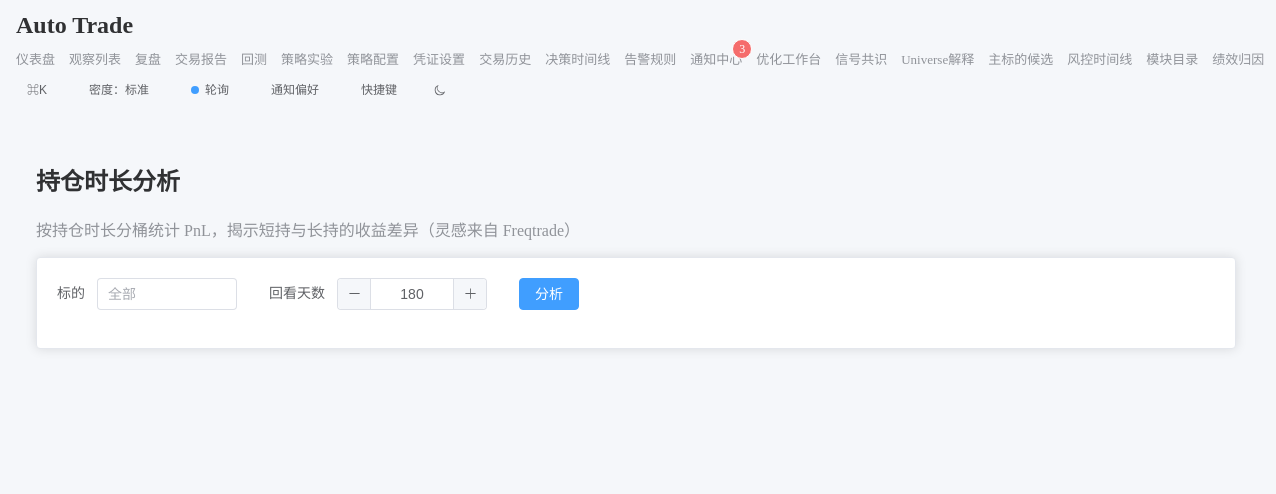
Analytics panels expose FIFO evidence quality › holding-time surfaces unresolved ledger evidence
The width and height of the screenshot is (1276, 494).
What coordinates should you click on to do the following:
click the button "分析"
I would click on:
 (549, 294)
Its box is [519,278,579,310].
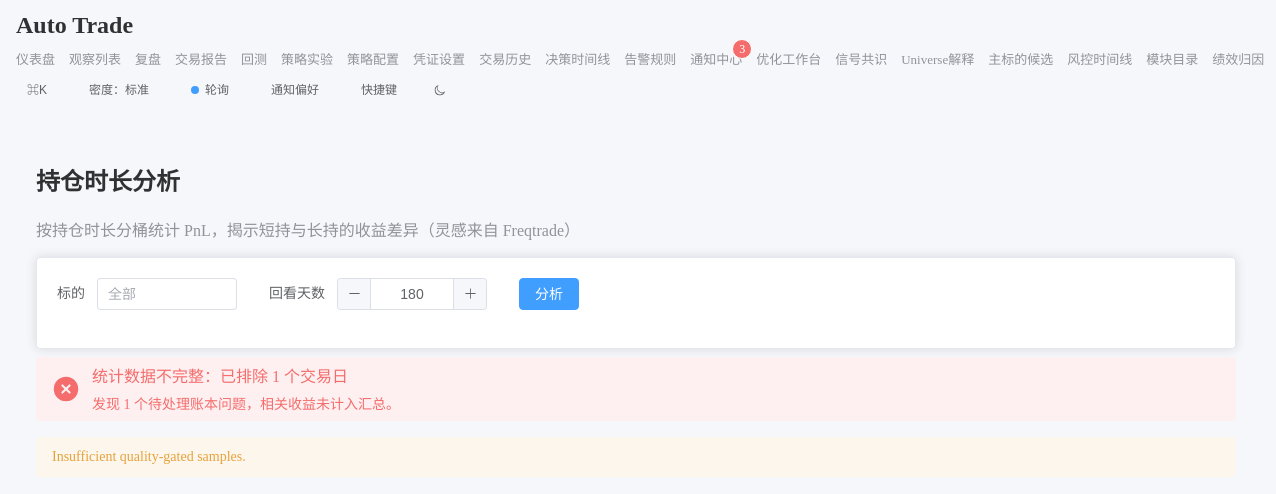
Expected: the text with test id "statistics-quality-alert" shows "已排除 1 个交易日", [92,368,348,385]
